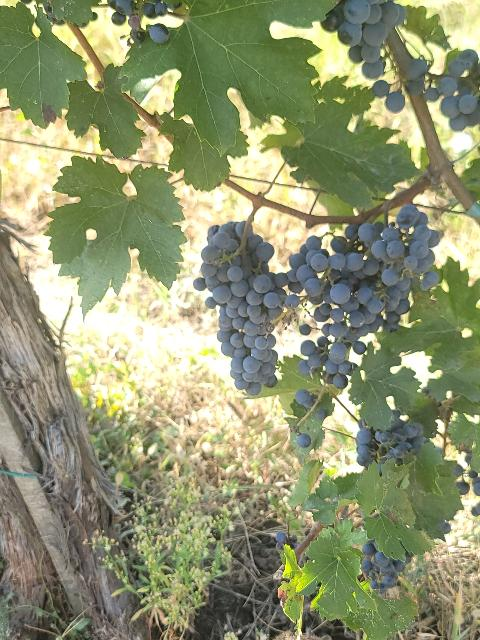grapes: (194, 221, 289, 396), (288, 222, 386, 389), (358, 204, 440, 328)
